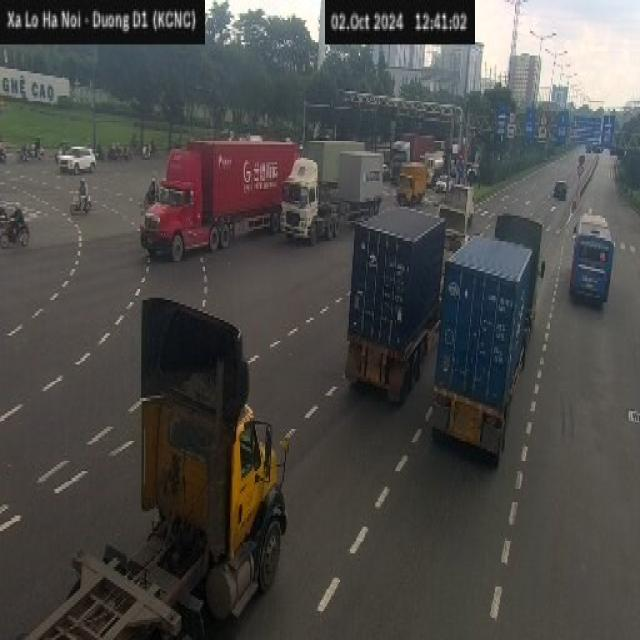bus: (564, 193, 620, 321)
car: (62, 143, 96, 181), (555, 177, 576, 204)
container-truck: (40, 304, 300, 640), (428, 231, 538, 467), (344, 204, 446, 404), (140, 136, 301, 260), (288, 127, 379, 233)
motorcycle: (0, 213, 29, 247), (66, 195, 102, 221)
person: (10, 193, 23, 227), (78, 167, 88, 202)
truck: (447, 176, 482, 246), (391, 155, 429, 209)
